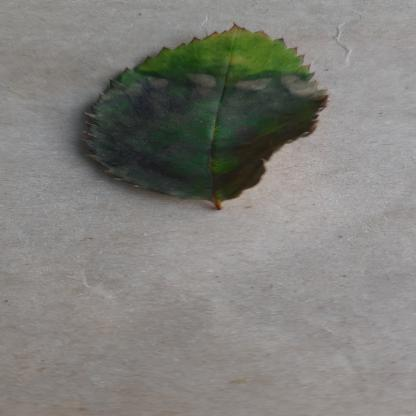powdery-mildew: (69, 25, 333, 202)
